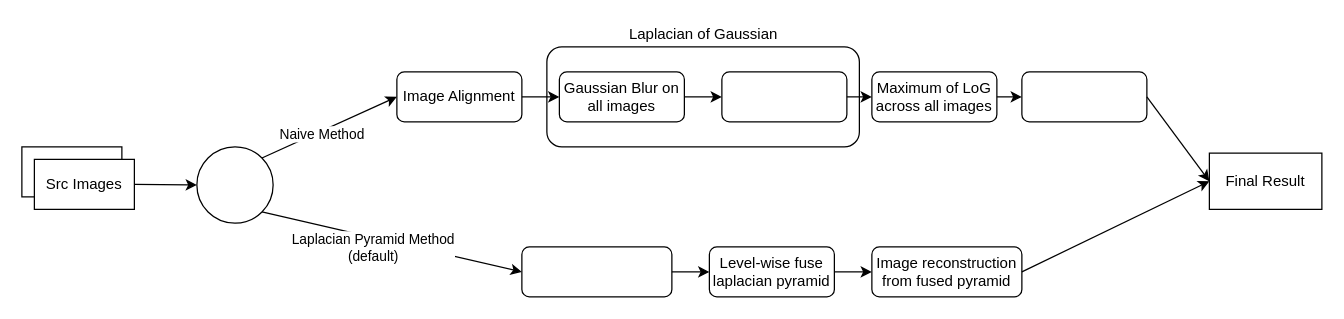
This 1344x319 diagram has some shape labels left out. The shapes that lost their labels are listed below. From the top down, each one's centre as x and y in pixels, then its label:
pixel 784 96: Laplacian on blurred images
pixel 1084 96: Apply the mask and blend images
pixel 234 184: Choose a method
pixel 596 271: Get laplacian pyramid for all images
